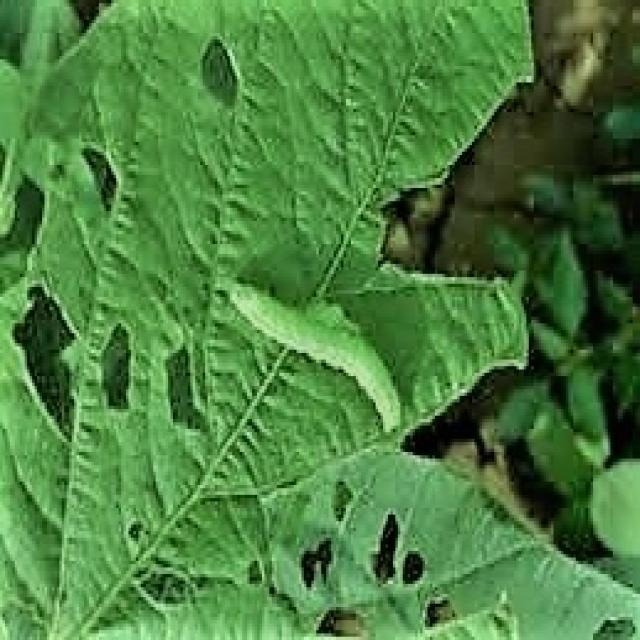armyworm: (232, 274, 406, 446)
